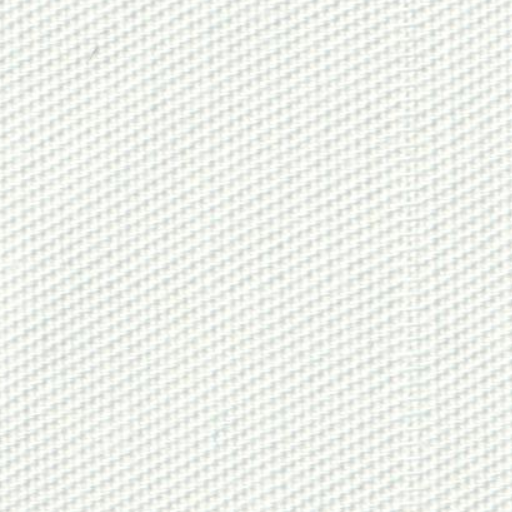TuoSha: (372, 10, 456, 506)
